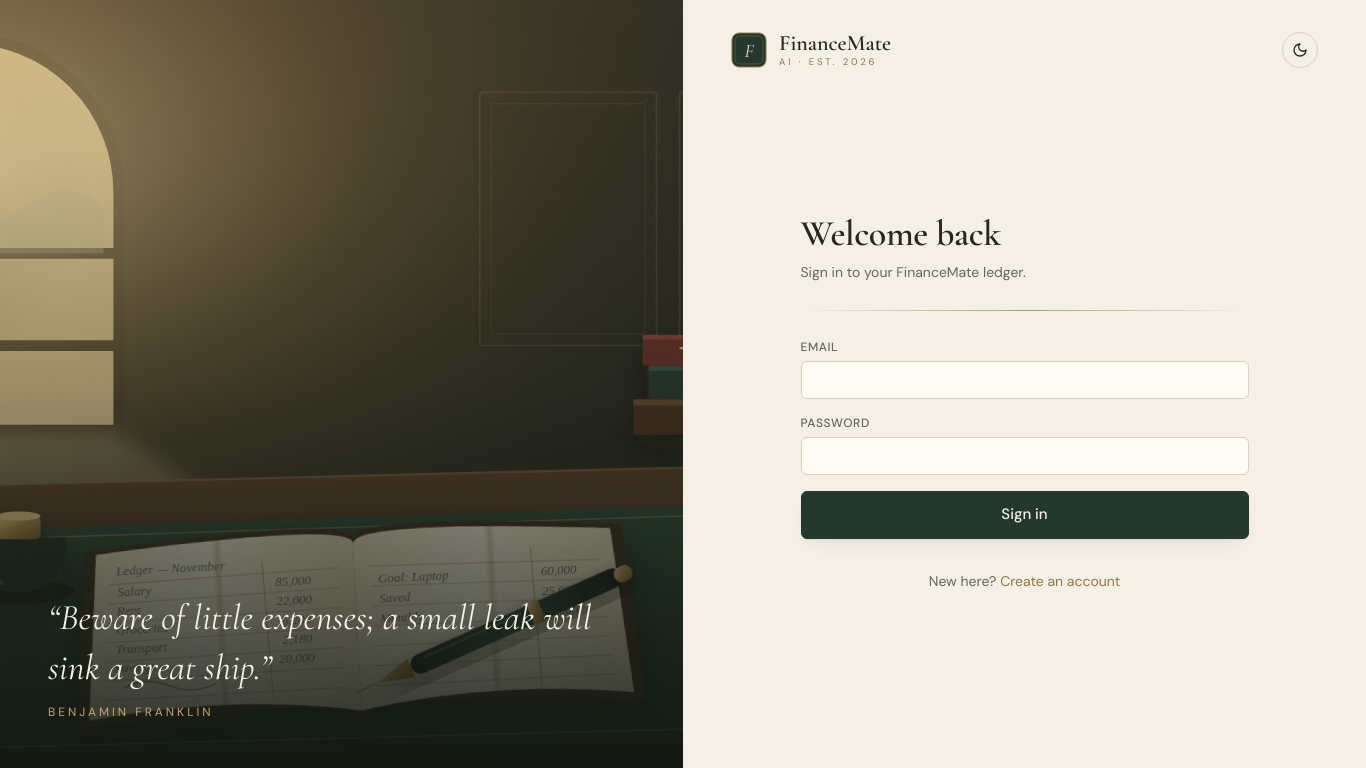
Test case: authentication & navigation › shows the server error on bad credentials
Type "a@example.com" into the field labelled "Email".
click(1024, 380); type("a@example.com")  # box [800,360,1248,398]
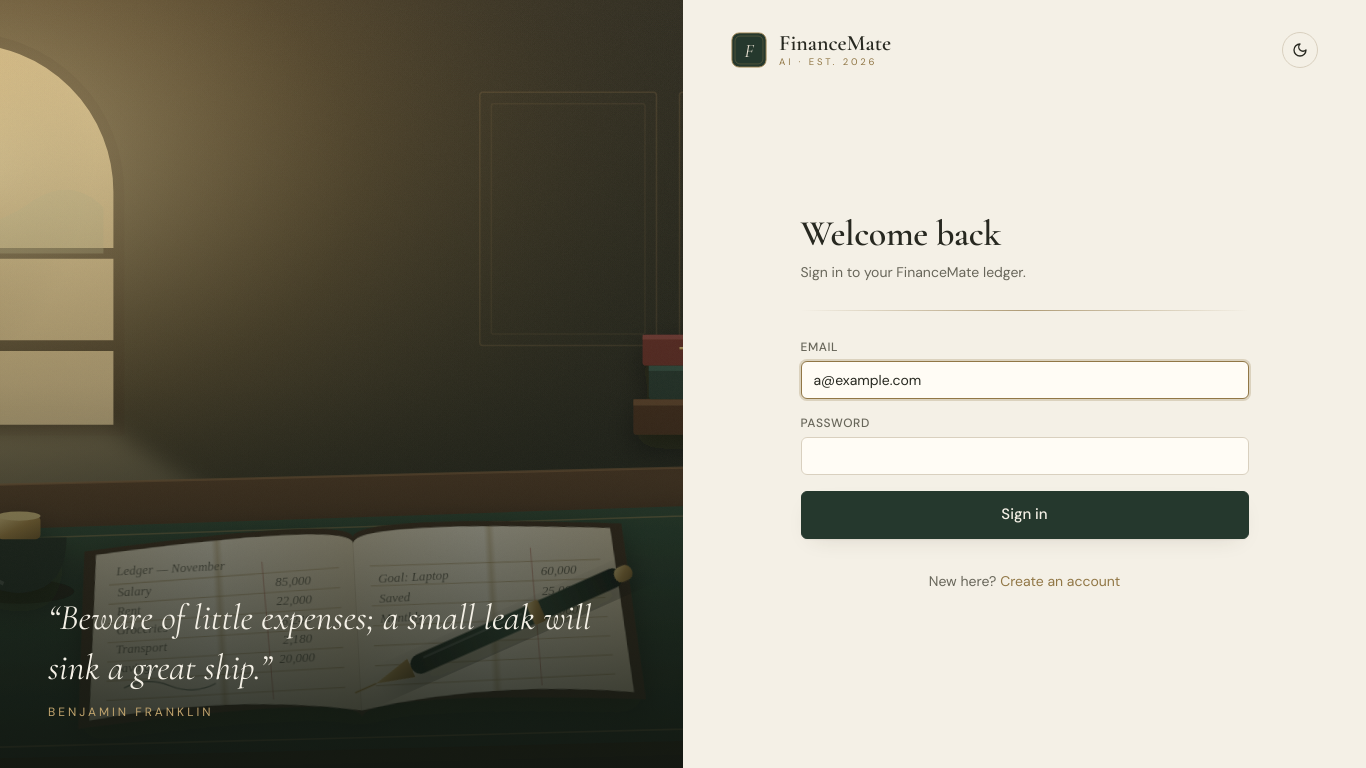
Type "wrongpass1" into the password field labelled "Password".
click(1024, 456); type("wrongpass1")  # box [800,436,1248,474]
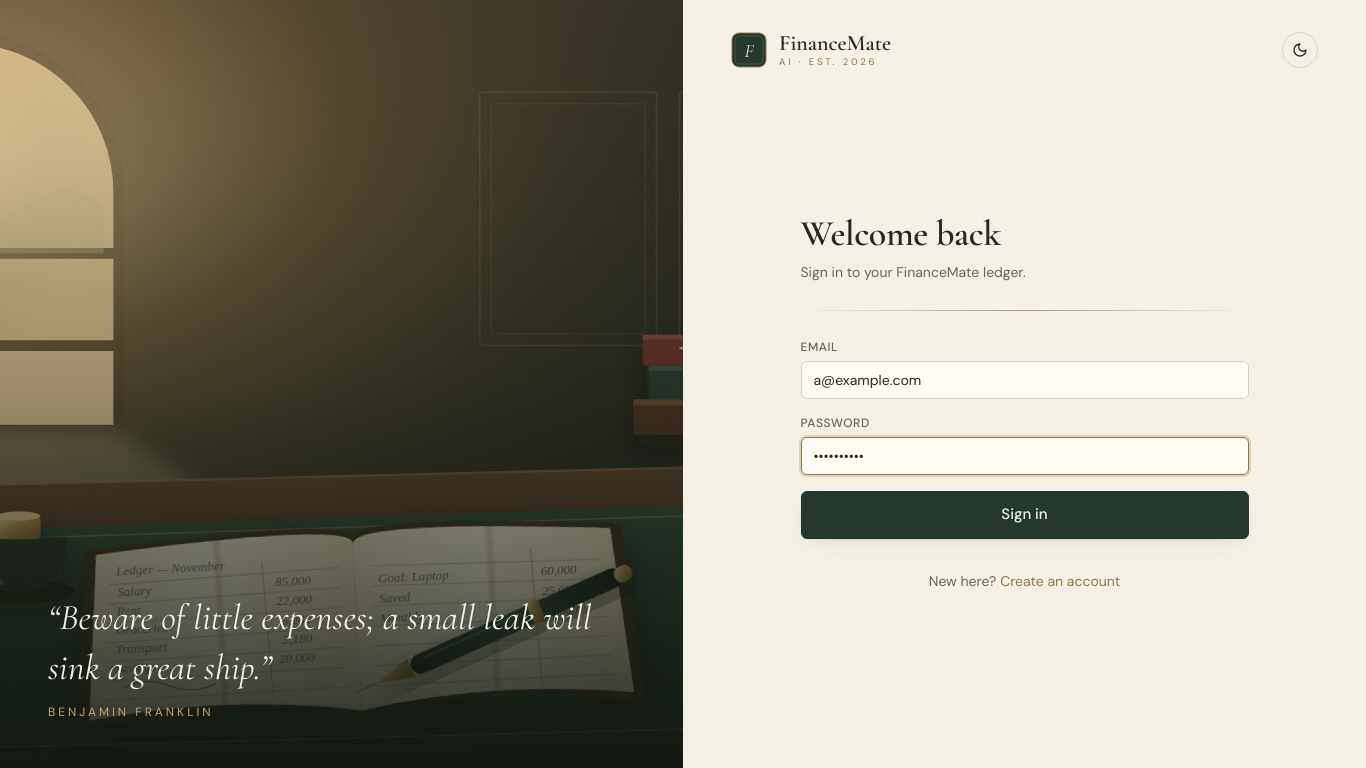
Click the button "Sign in".
click(1024, 514)  # box [800,490,1248,538]
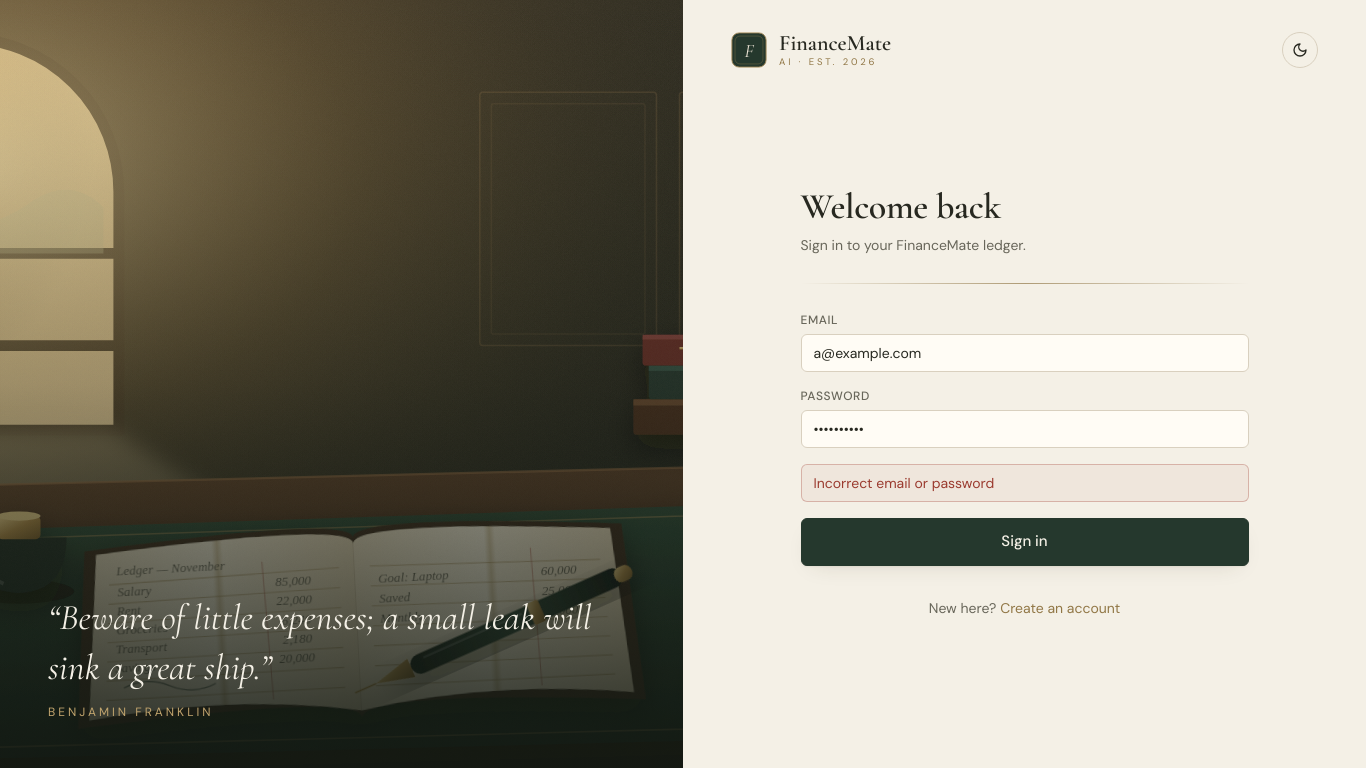
Check: the message reads "Incorrect email or password", box [814,474,994,492]
